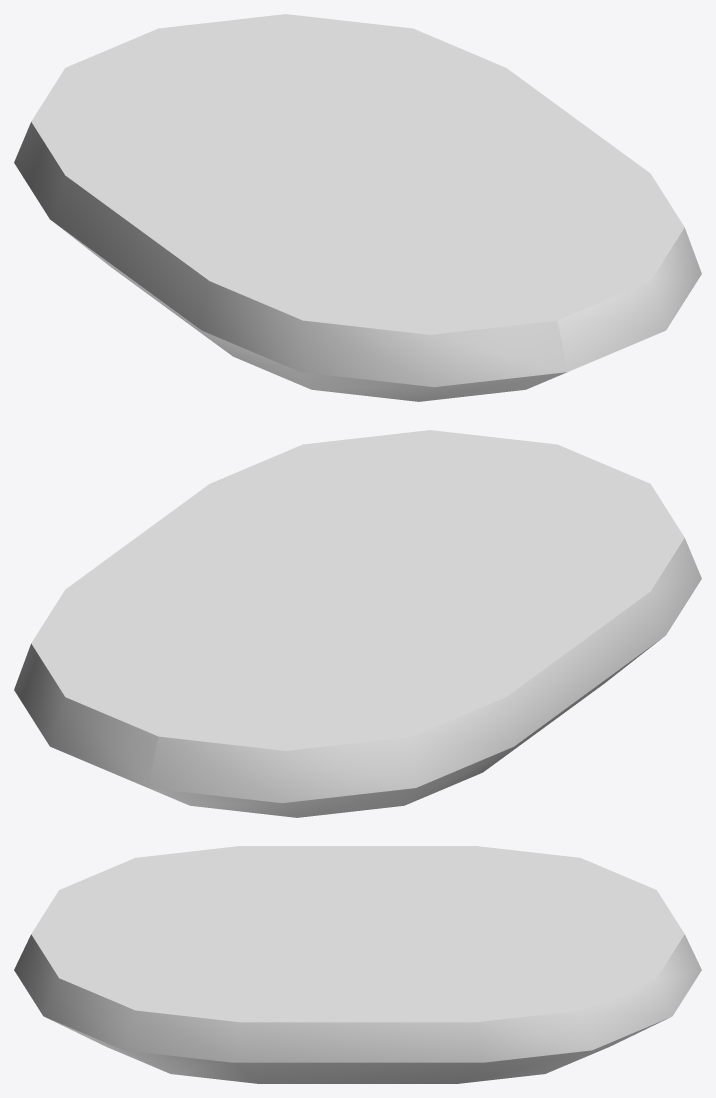
The model's file is K_WHITE.glb.
3 views of the same model, one above another, from view 1: azimuth 30°, elevation 25°; view 2: azimuth 150°, elevation 25°; view 3: azimuth 270°, elevation 25° (orthographic). The views are drawn at different scales.
Parts seen in each view (by area): view 1: FRAME_ROOT; view 2: FRAME_ROOT; view 3: FRAME_ROOT.
Part boxes in pixels (left/top/right/bottom): FRAME_ROOT: left=14, top=14, right=701, bottom=401; FRAME_ROOT: left=14, top=430, right=701, bottom=817; FRAME_ROOT: left=14, top=846, right=701, bottom=1083.
Bounding box in the file's own units: 1.2 × 0.228 × 1.88.
1 material, 1 textured.
